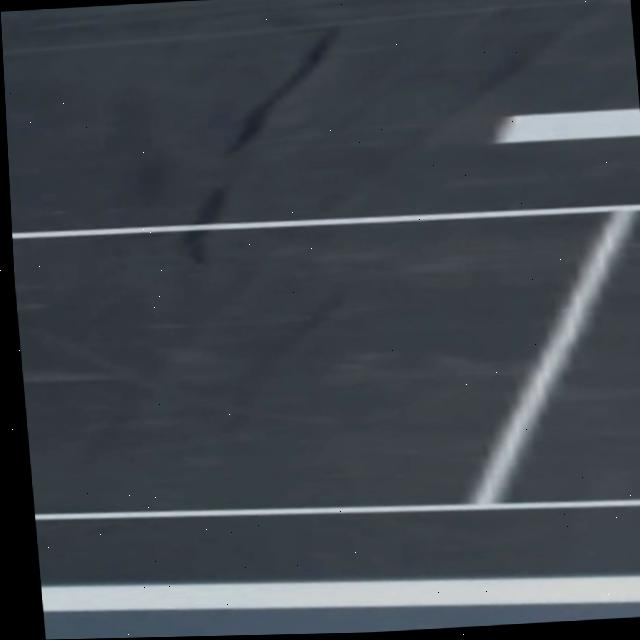center: (491, 110, 640, 142)
left: (40, 576, 640, 613)
